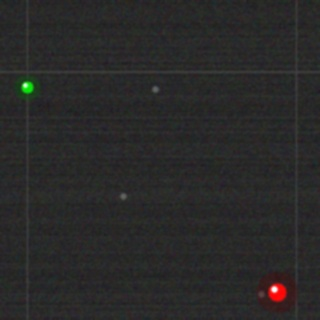green_normal: (19, 79, 35, 95)
red_fault: (266, 281, 288, 303)
